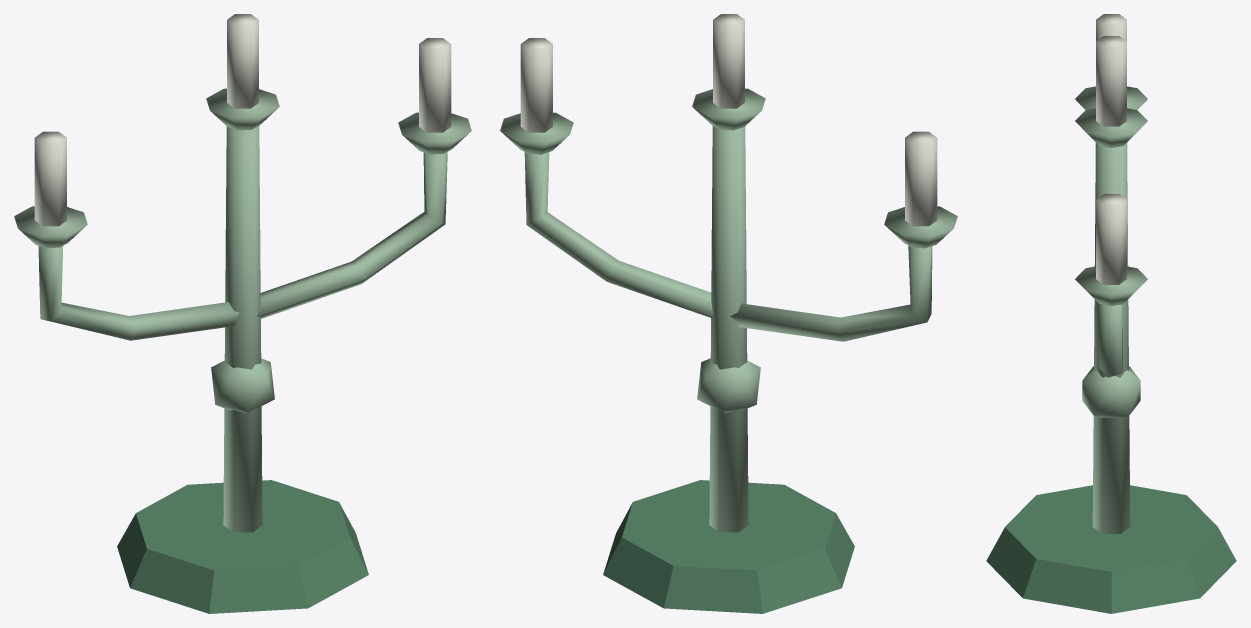
The model's file is green_dungeon_candelabra_v0.glb.
3 views of the same model, side by side, from view 1: azimuth 30°, elevation 25°; view 2: azimuth 150°, elevation 25°; view 3: azimuth 270°, elevation 25° (orthographic). The views are drawn at different scales.
Visible parts, largest first — view 1: green_dungeon_candelabra_v0; view 2: green_dungeon_candelabra_v0; view 3: green_dungeon_candelabra_v0.
Part boxes in pixels (box(x1,y1,x2,y2)): green_dungeon_candelabra_v0: box(14, 14, 471, 613); green_dungeon_candelabra_v0: box(500, 14, 957, 613); green_dungeon_candelabra_v0: box(986, 14, 1236, 613).
Size of the model in its own units: 0.797 by 0.915 by 0.4.
